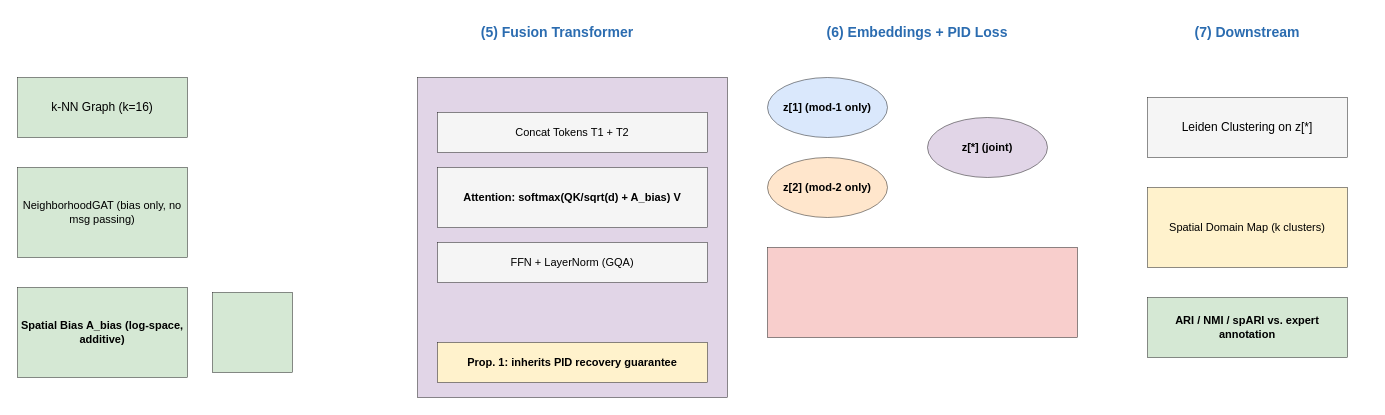
Some shapes in this 1385 by 415 pixel diagram are drawn without their labels. Each missing label, with the box of its shape:
[A_bias heatmap]: (212, 292, 292, 372)
Fusion Transformer (L=1): (417, 77, 727, 397)
PID-Guided Contrastive Loss: Sum InfoNCE(z[m], z[*]) recovers R+U1+U2+S: (767, 247, 1077, 337)
